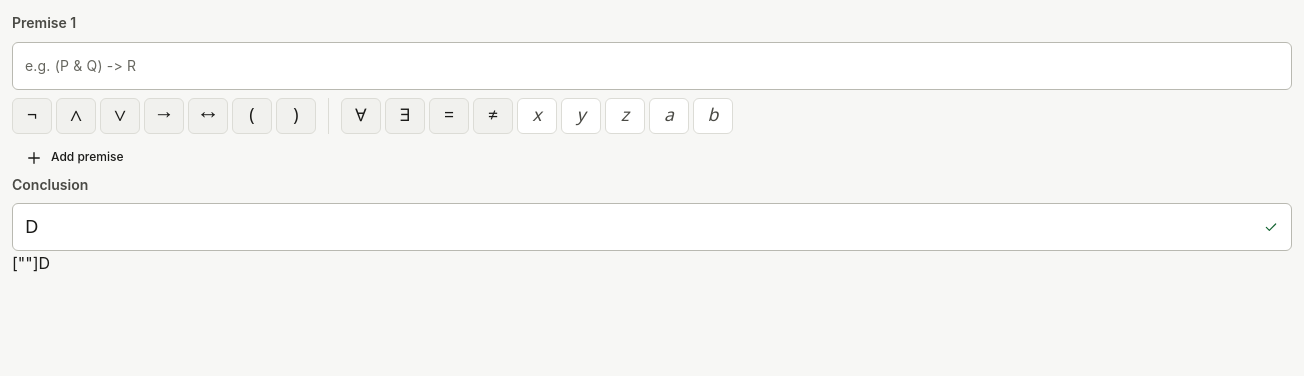
Test: pasting "P -> Q, Q |- P" routes the conclusion before any ASCII conversion
Click the field labelled "Premise 1". click: (652, 66)
box: left=13, top=43, right=1291, bottom=89
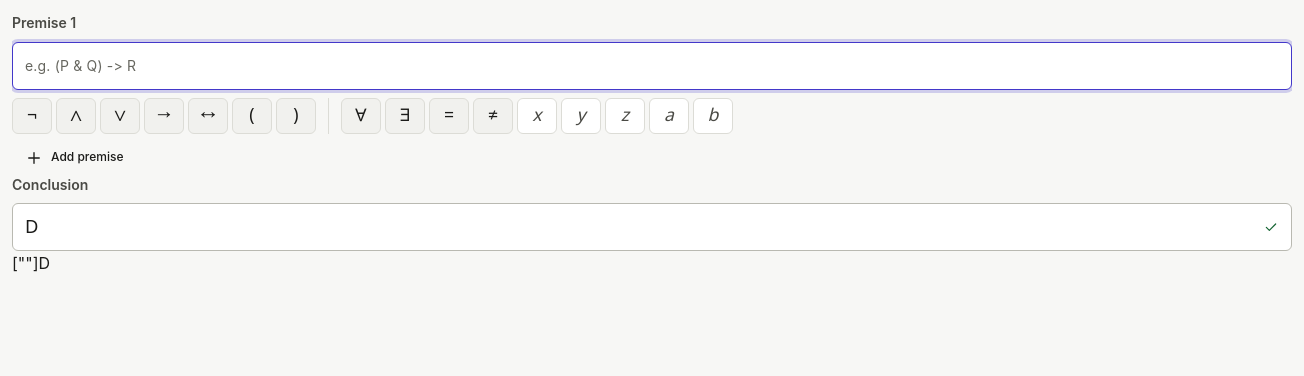
Type keys "P -> Q, Q |- P"
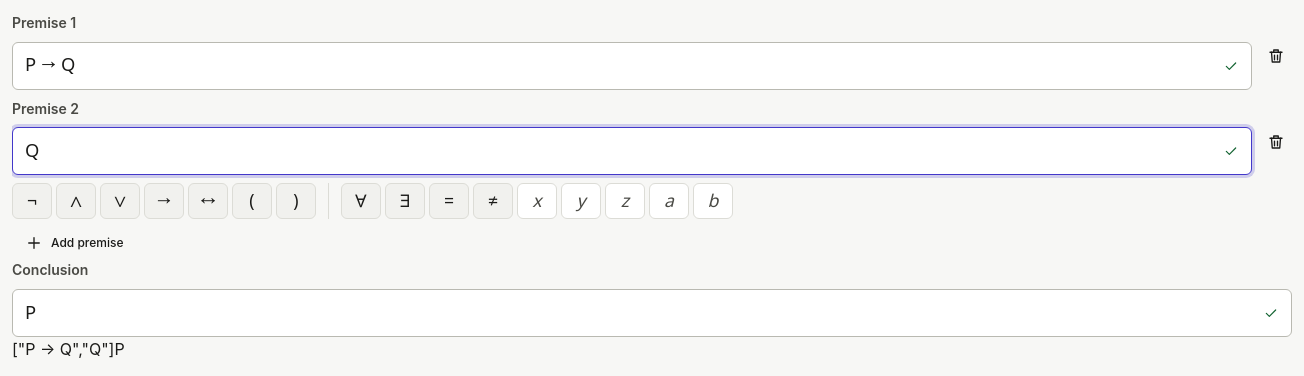
Check: the text with test id "c" reads "P", box left=114, top=339, right=125, bottom=359
